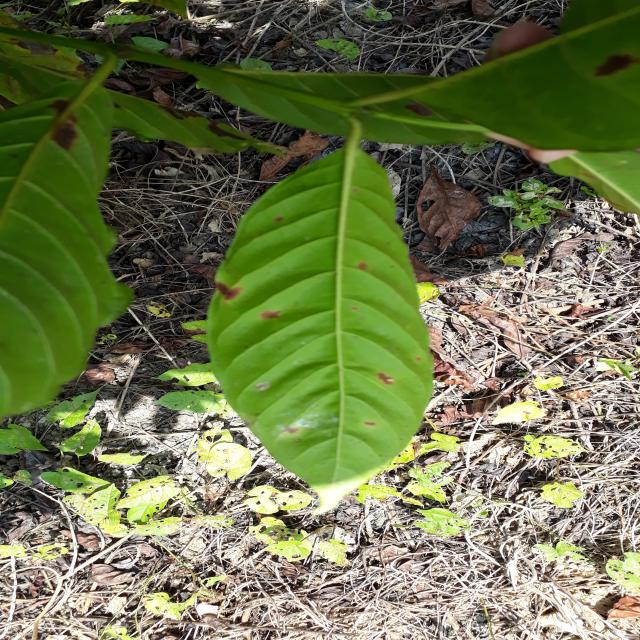Enfermedad-Roya: (211, 143, 435, 488)
